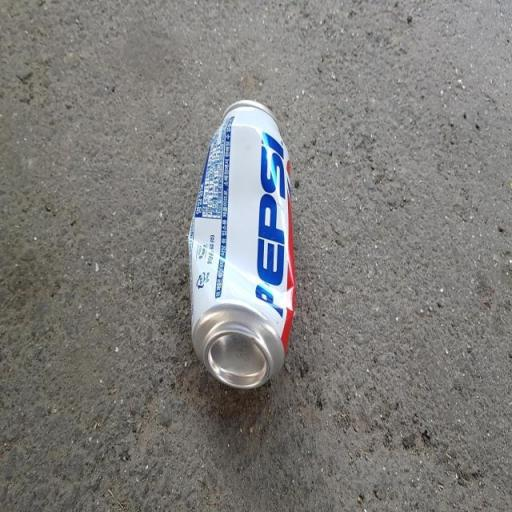metal: (170, 82, 302, 405)
